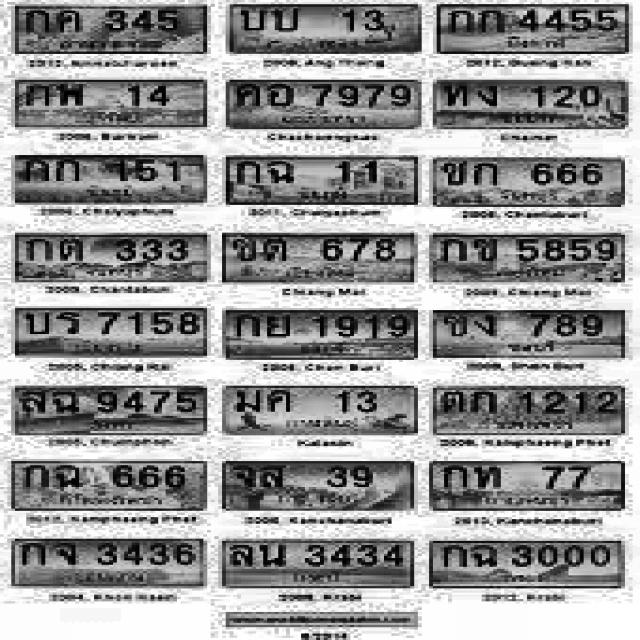license-plate: (8, 230, 215, 285), (217, 458, 421, 513), (10, 150, 209, 206), (8, 382, 210, 437), (8, 459, 212, 513), (216, 306, 419, 360), (218, 230, 420, 284), (8, 304, 210, 358), (429, 384, 631, 438), (430, 154, 631, 208), (428, 308, 628, 362), (222, 77, 420, 131), (217, 384, 422, 436), (223, 152, 418, 206), (428, 232, 628, 284), (434, 78, 629, 131), (12, 78, 210, 130), (11, 2, 208, 54), (429, 459, 626, 511), (428, 539, 628, 590), (10, 537, 207, 588), (217, 537, 413, 588), (437, 3, 630, 54), (228, 4, 424, 53)
